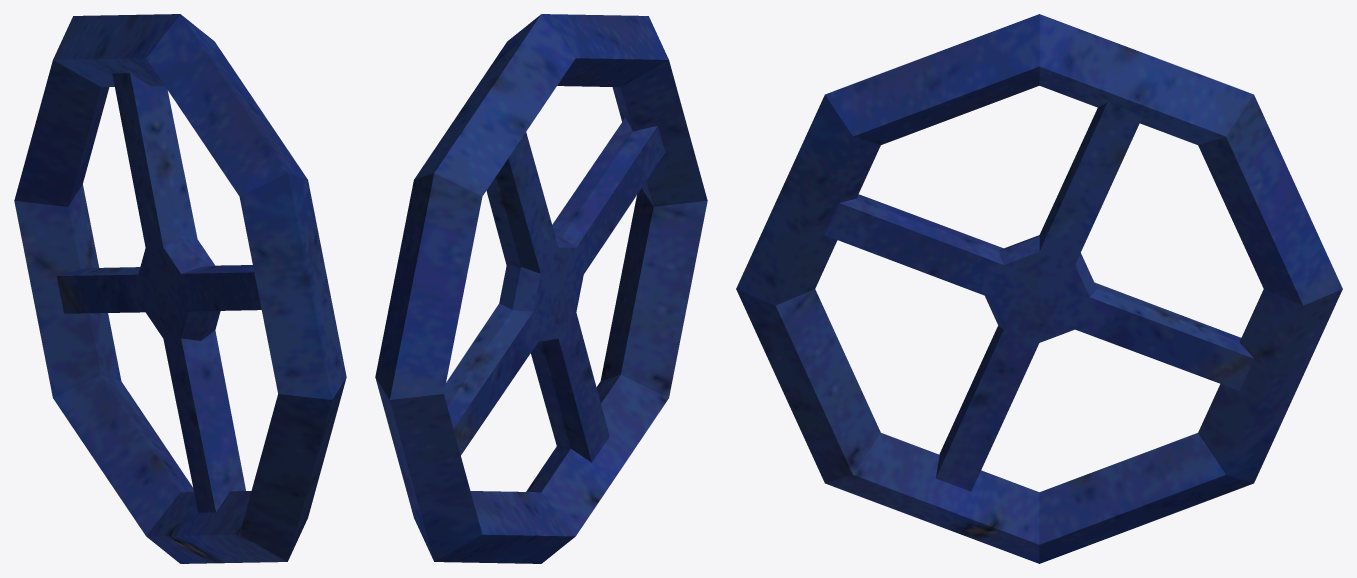
Rendered from Urban_ValveBlue_Model.fbx.
The picture shows the model from 3 angles, left to right: view 1: azimuth 30°, elevation 25°; view 2: azimuth 150°, elevation 25°; view 3: azimuth 270°, elevation 25°; orthographic projection.
Visible parts, largest first — view 1: Urban_ValveBlue_Mesh; view 2: Urban_ValveBlue_Mesh; view 3: Urban_ValveBlue_Mesh.
Boxes of the visible parts, x1,y1,x2,y2 form: Urban_ValveBlue_Mesh: (14, 14, 346, 563); Urban_ValveBlue_Mesh: (375, 14, 707, 563); Urban_ValveBlue_Mesh: (736, 14, 1342, 563).
Size of the model in its own units: 0.0544 by 0.4167 by 0.4167.
